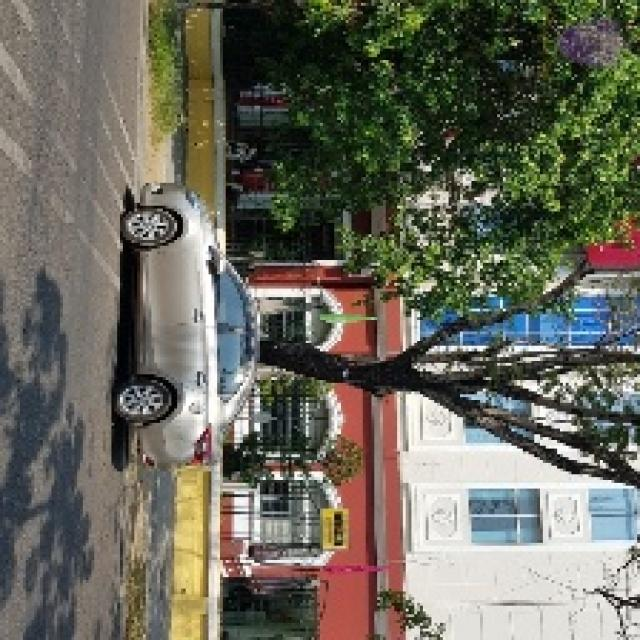car: (111, 164, 283, 478)
